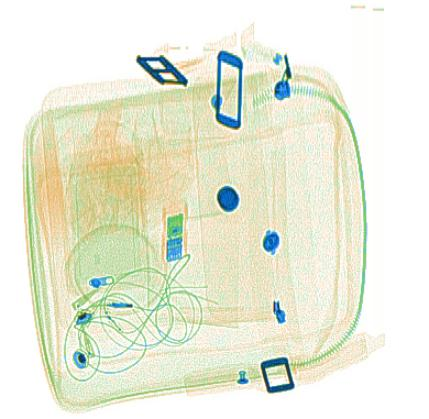USBFlashDisk: (164, 212, 185, 263)
